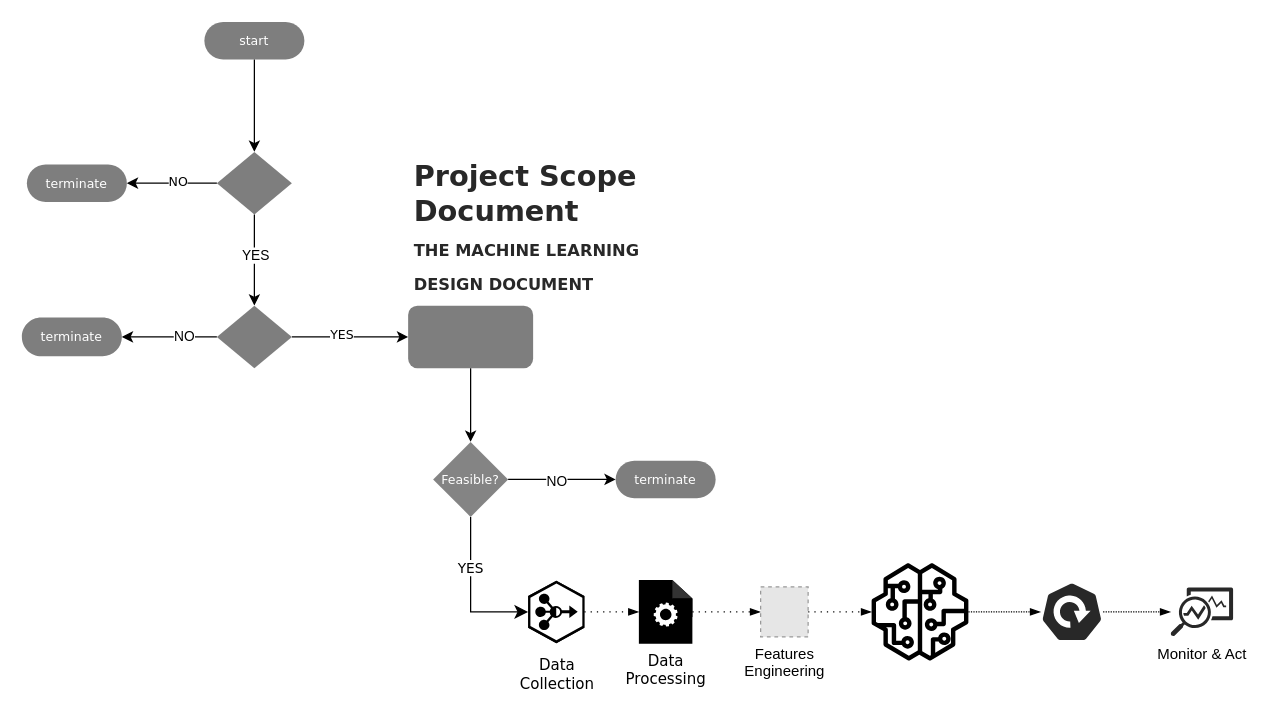
The diagram is 1268 pixels wide and 726 high, and some of its shapes have lost their labels. Grey dashed boxes stand in for pictures. The centre of each missing label's shape, as x and y in pixels:
Budget?: point 253,182
Deploy: point 1071,611
Model Development: point 919,611
Plausible budget, timebox?: point 253,336
